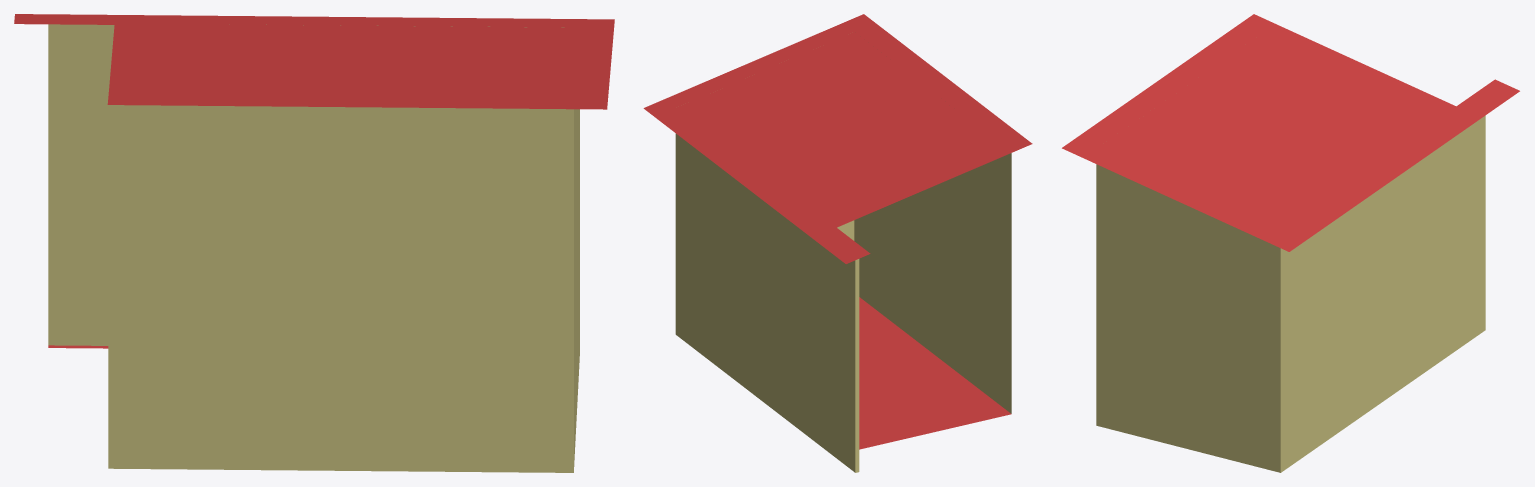
3 views of the same model, side by side, from view 1: azimuth 30°, elevation 25°; view 2: azimuth 150°, elevation 25°; view 3: azimuth 270°, elevation 25° (orthographic). The views are drawn at different scales.
Size of the model in its own units: 9.01 by 9.08 by 6.13.
